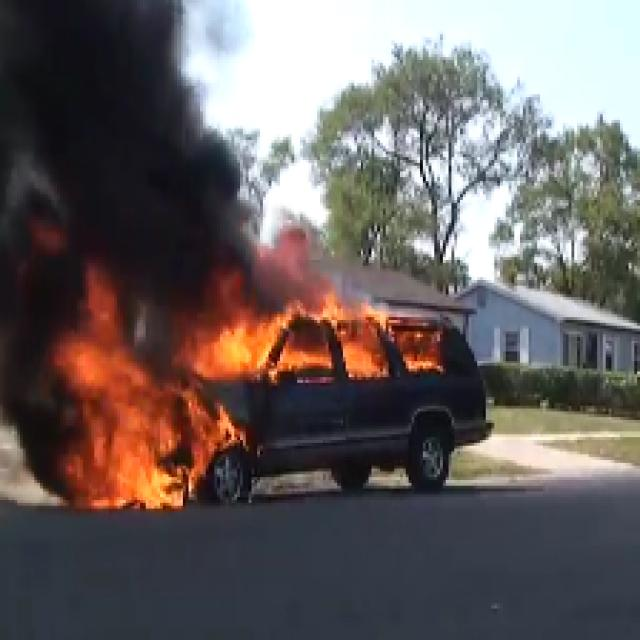fire: (69, 337, 217, 497)
smoke: (7, 19, 222, 267), (220, 305, 433, 399)
